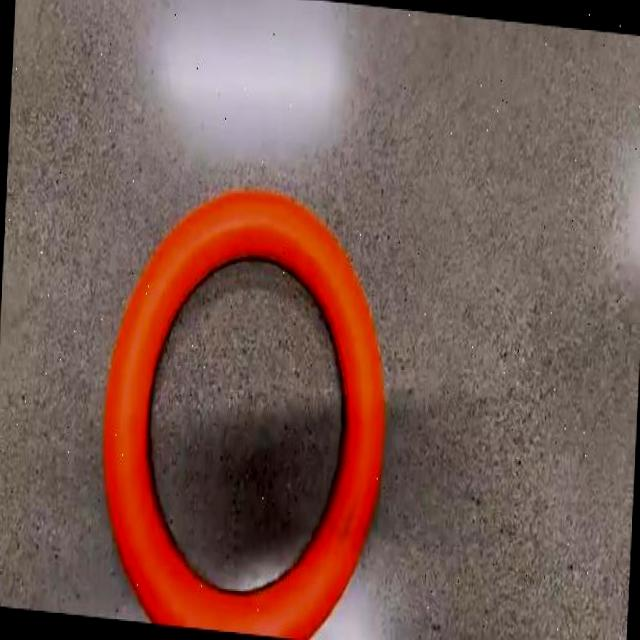note: (102, 191, 383, 636)
